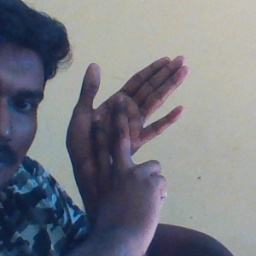N: (64, 52, 191, 199)
